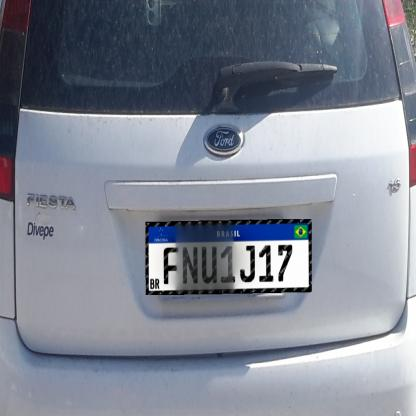PlacaM: (145, 219, 312, 295)
